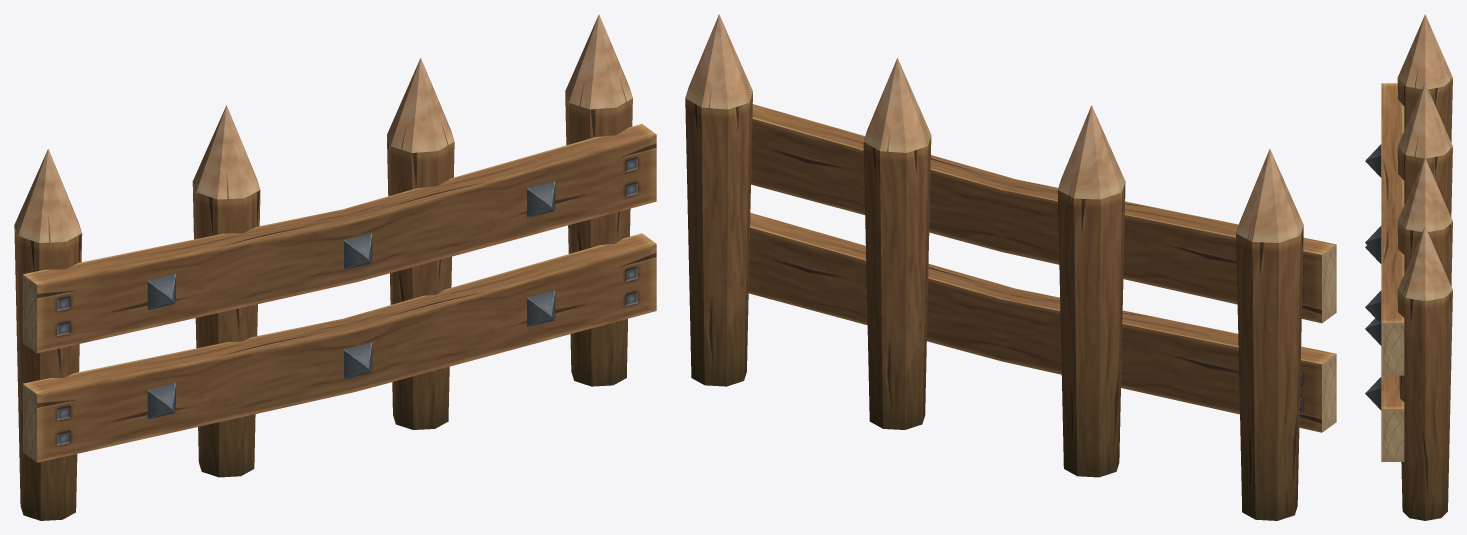
File: wooden_fence_23.fbx
3 views of the same model, side by side, from view 1: azimuth 30°, elevation 25°; view 2: azimuth 150°, elevation 25°; view 3: azimuth 270°, elevation 25° (orthographic). The views are drawn at different scales.
Visible parts, largest first — view 1: wooden_fence_23:Mesh; view 2: wooden_fence_23:Mesh; view 3: wooden_fence_23:Mesh.
Part boxes in pixels (x1,y1,x2,y2): wooden_fence_23:Mesh: (14,14,656,520); wooden_fence_23:Mesh: (685,14,1336,520); wooden_fence_23:Mesh: (1365,14,1452,520).
Size of the model in its own units: 7.17 by 3.98 by 1.11.
